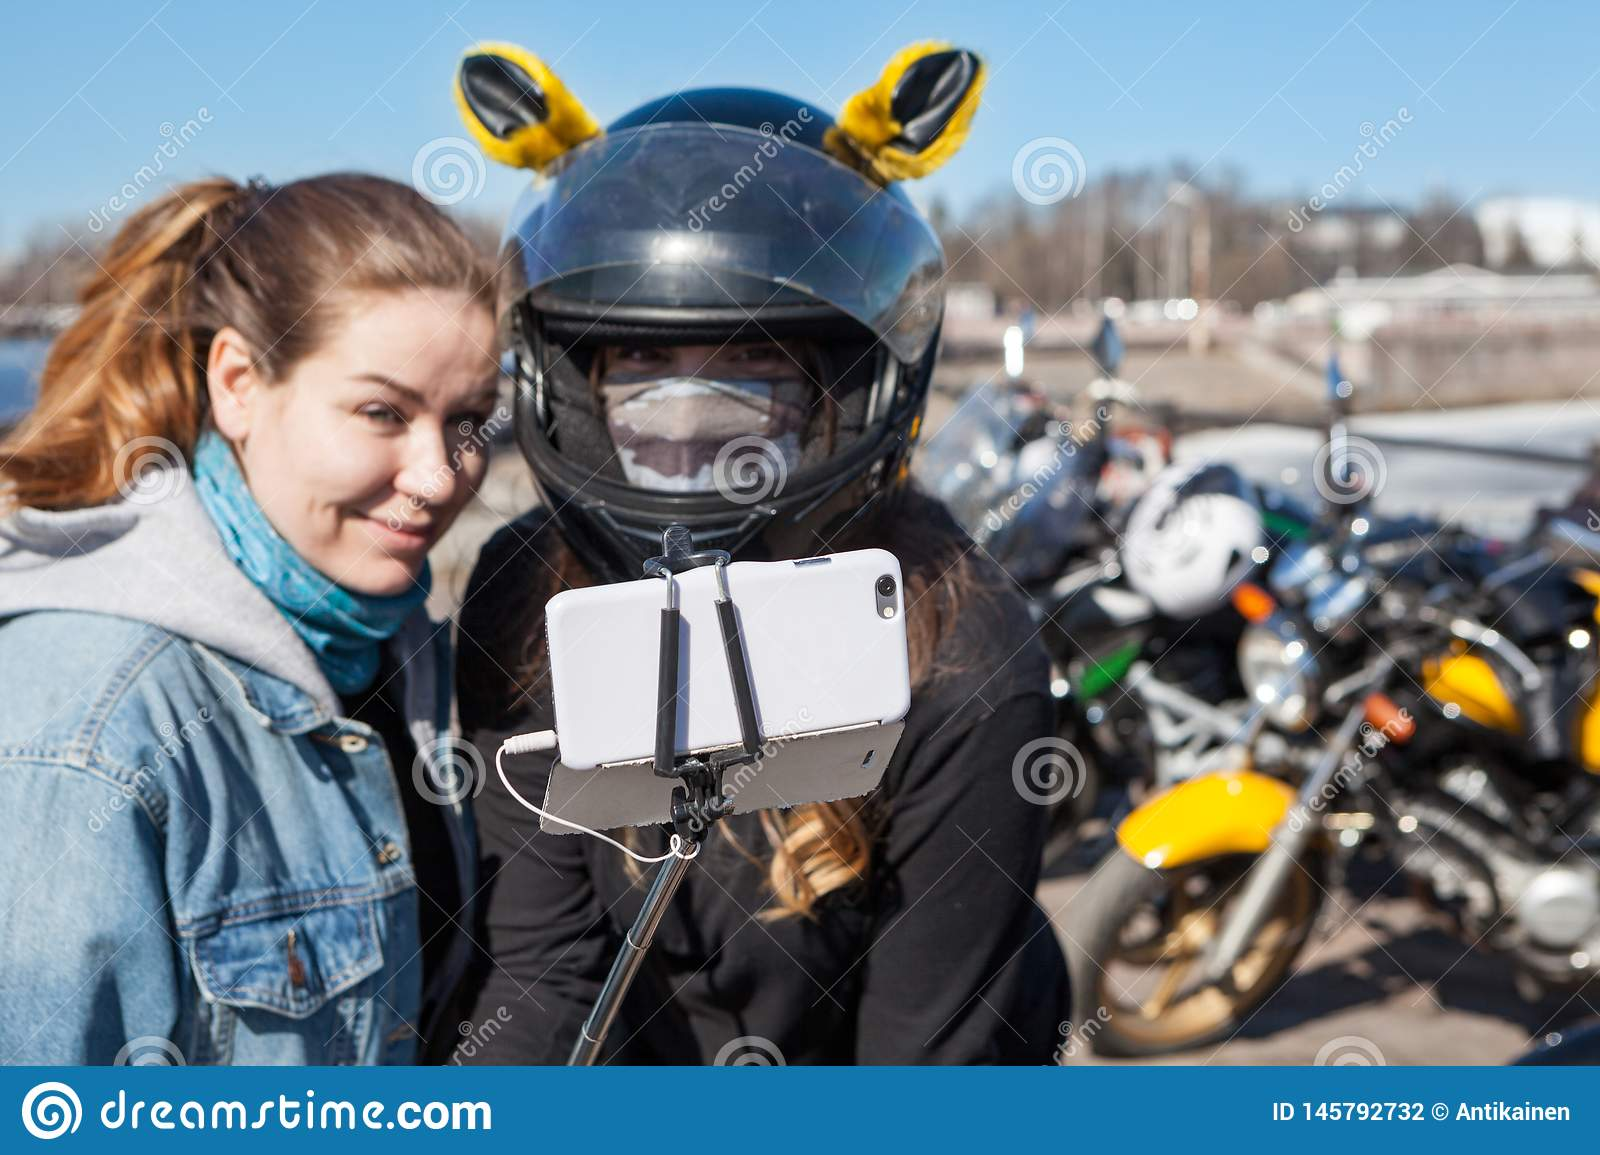helmet: (453, 130, 985, 579)
